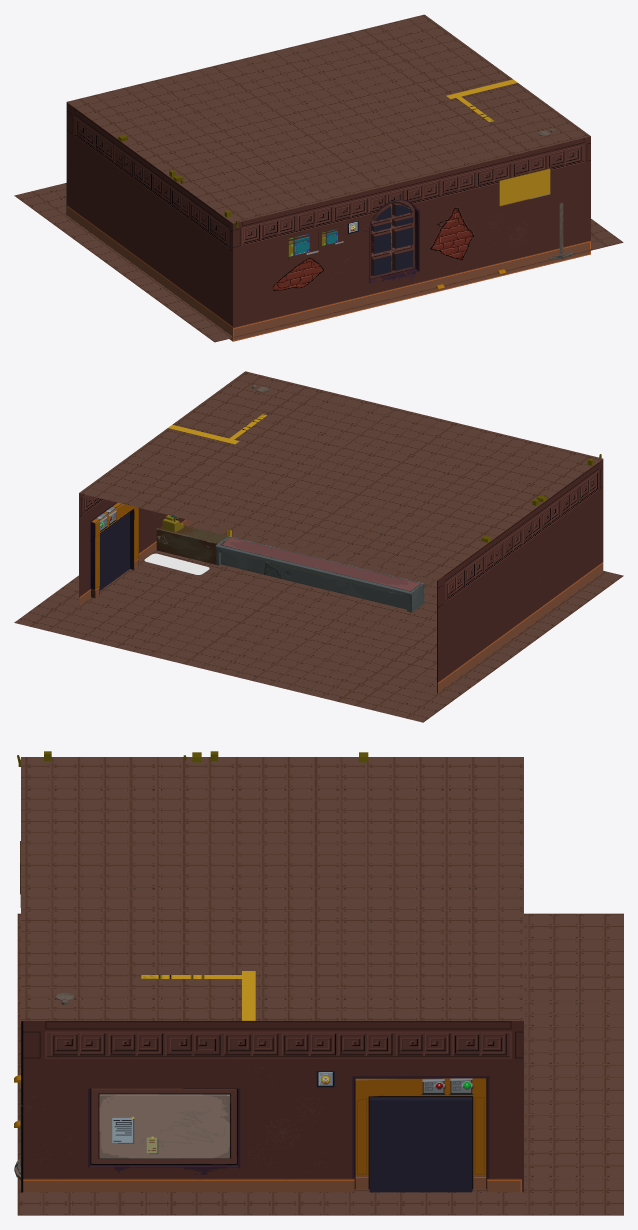
File: New Bar.fbx
3 renders of one model, top to bottom at view 1: azimuth 30°, elevation 25°; view 2: azimuth 150°, elevation 25°; view 3: azimuth 270°, elevation 25°, orthographic. The views are drawn at different scales.
Parts seen in each view (by area): view 1: Wall, Plane.001, Ceiling_installation_1, Counter_stand_3.001, Drawing1; view 2: Wall, Plane.001, BarTable, carpet, Counter_stand_3.001; view 3: Wall, Plane.001, Counter_stand_3.001.
Boxes of the visible parts, x1,y1,x2,y2 form: Wall: [66, 14, 590, 341]; Plane.001: [14, 183, 623, 342]; Ceiling_installation_1: [499, 168, 550, 206]; Counter_stand_3.001: [446, 79, 517, 122]; Drawing1: [288, 231, 318, 259]; Wall: [79, 371, 603, 693]; Plane.001: [14, 521, 623, 722]; BarTable: [156, 525, 424, 612]; carpet: [144, 553, 209, 574]; Counter_stand_3.001: [168, 414, 267, 536]; Wall: [21, 757, 523, 1192]; Plane.001: [17, 913, 623, 1215]; Counter_stand_3.001: [141, 971, 255, 1020].
Bounding box in the file's own units: 1644 × 483 × 1404.
